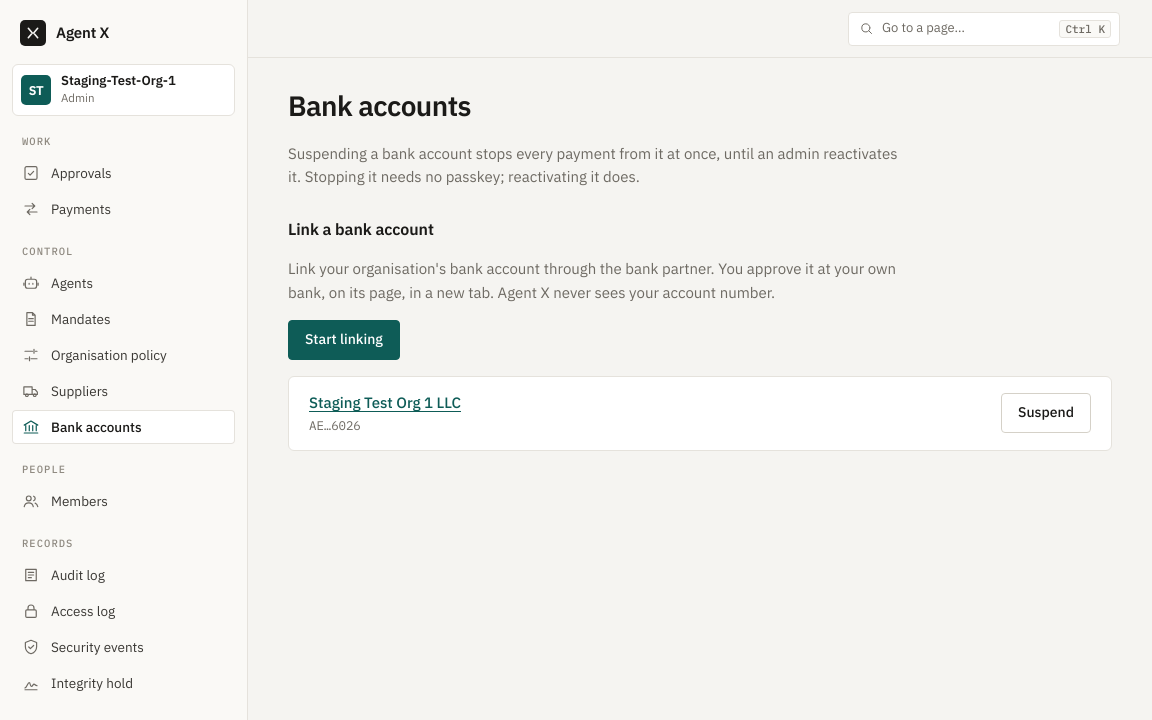
it: a bank account’s page (6D4a) › opens from the account’s row on the Bank accounts list, where its brake stays
The image size is (1152, 720).
Check: the button with aria-label "Suspend Staging Test Org 1 LLC" is shown, box [1001, 393, 1091, 433]
Click the link "Staging Test Org 1 LLC": (385,402) [309, 393, 461, 412]
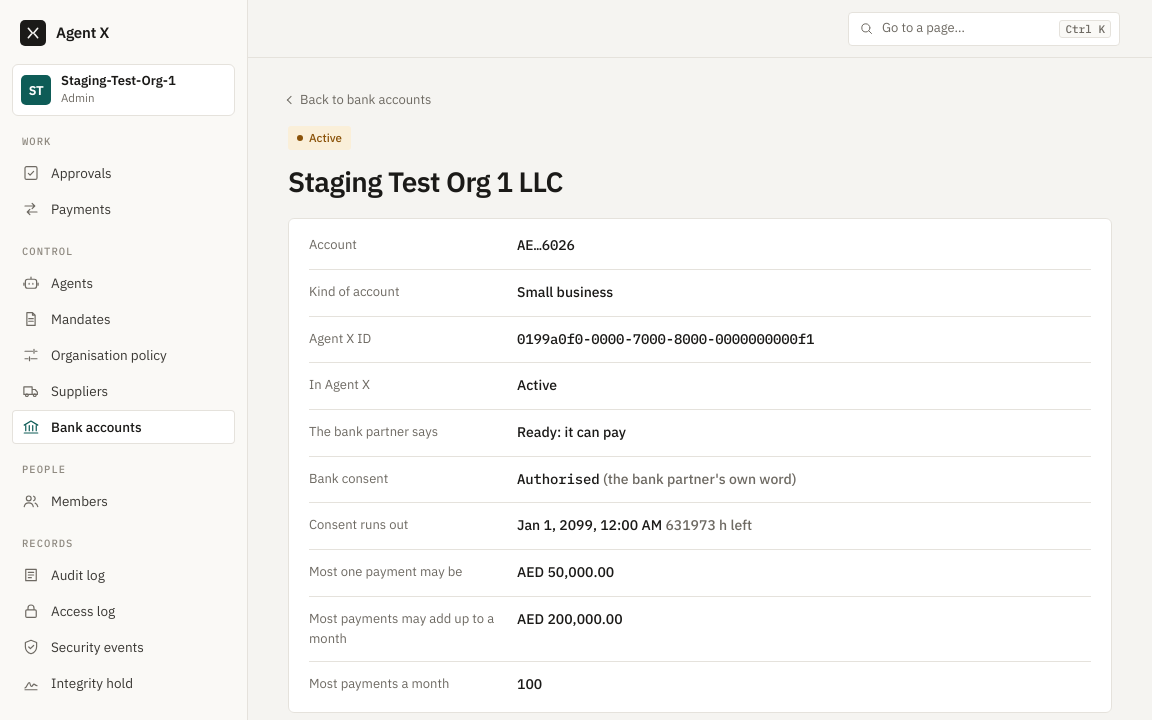
Check: the heading "Staging Test Org 1 LLC" is shown, box [288, 163, 563, 200]
